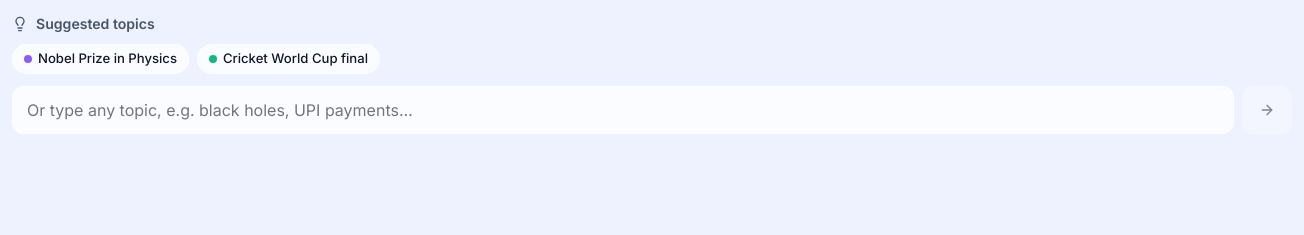
it: Discover › shows a friendly error when the AI cannot prepare a reference
The width and height of the screenshot is (1304, 235).
Type "Black holes" into the field labelled "any topic".
click(623, 110); type("Black holes")  # box [12,86,1234,134]
Then press Enter
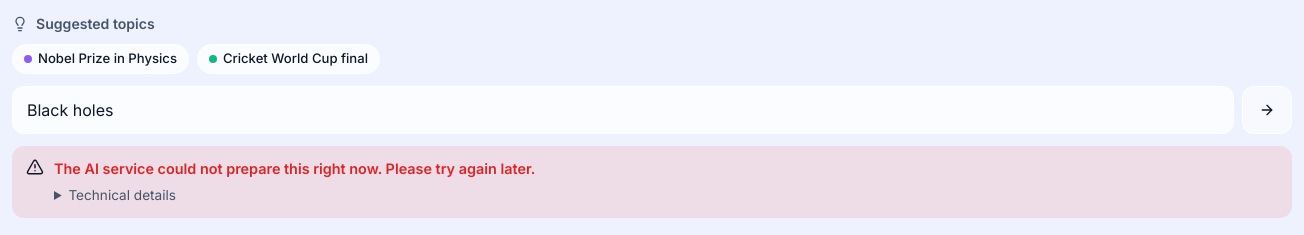
Check: the text "The AI service could not prepare this right now. Please try again later." is shown, box [54,158,535,179]
